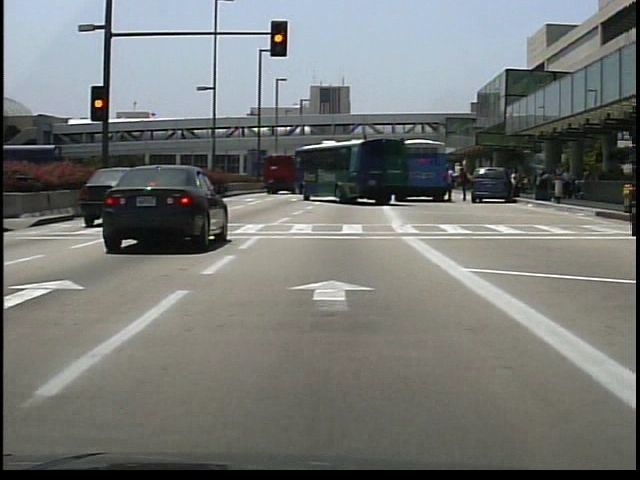person: (457, 161, 471, 204), (510, 168, 523, 202), (450, 165, 451, 202)
